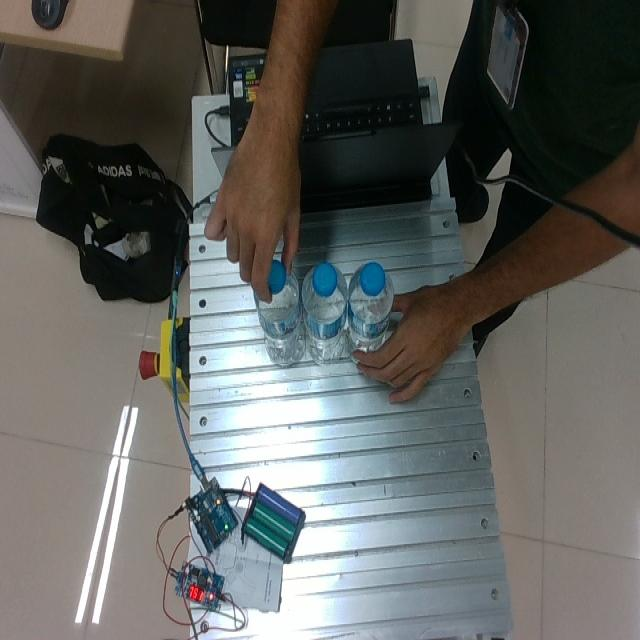lavie: (302, 264, 349, 364), (256, 269, 304, 364), (346, 261, 394, 355)
